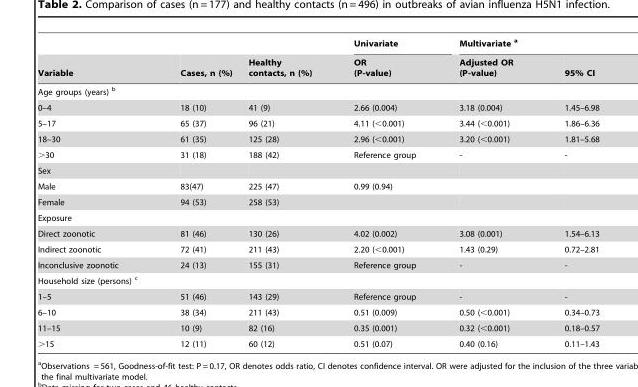table: (37, 37, 598, 347)
table column: (37, 37, 158, 347), (332, 37, 436, 347), (436, 37, 538, 347), (239, 37, 332, 347), (158, 37, 239, 347), (538, 37, 598, 347)
table column header: (37, 37, 598, 81)
table projected row header: (37, 81, 598, 99), (37, 271, 598, 288), (37, 162, 598, 178), (37, 209, 598, 225)
table row: (37, 52, 598, 81), (37, 81, 598, 99), (37, 271, 598, 288), (37, 99, 598, 115), (37, 115, 598, 131), (37, 146, 598, 162), (37, 162, 598, 178), (37, 178, 598, 194), (37, 209, 598, 225), (37, 225, 598, 241), (37, 241, 598, 257), (37, 288, 598, 304), (37, 319, 598, 335), (37, 37, 598, 52), (37, 131, 598, 146), (37, 194, 598, 209), (37, 304, 598, 319), (37, 257, 598, 271), (37, 335, 598, 347)
table spanning cell: (37, 37, 158, 81), (332, 37, 436, 81), (239, 37, 332, 81), (158, 37, 239, 81), (436, 37, 598, 52)
